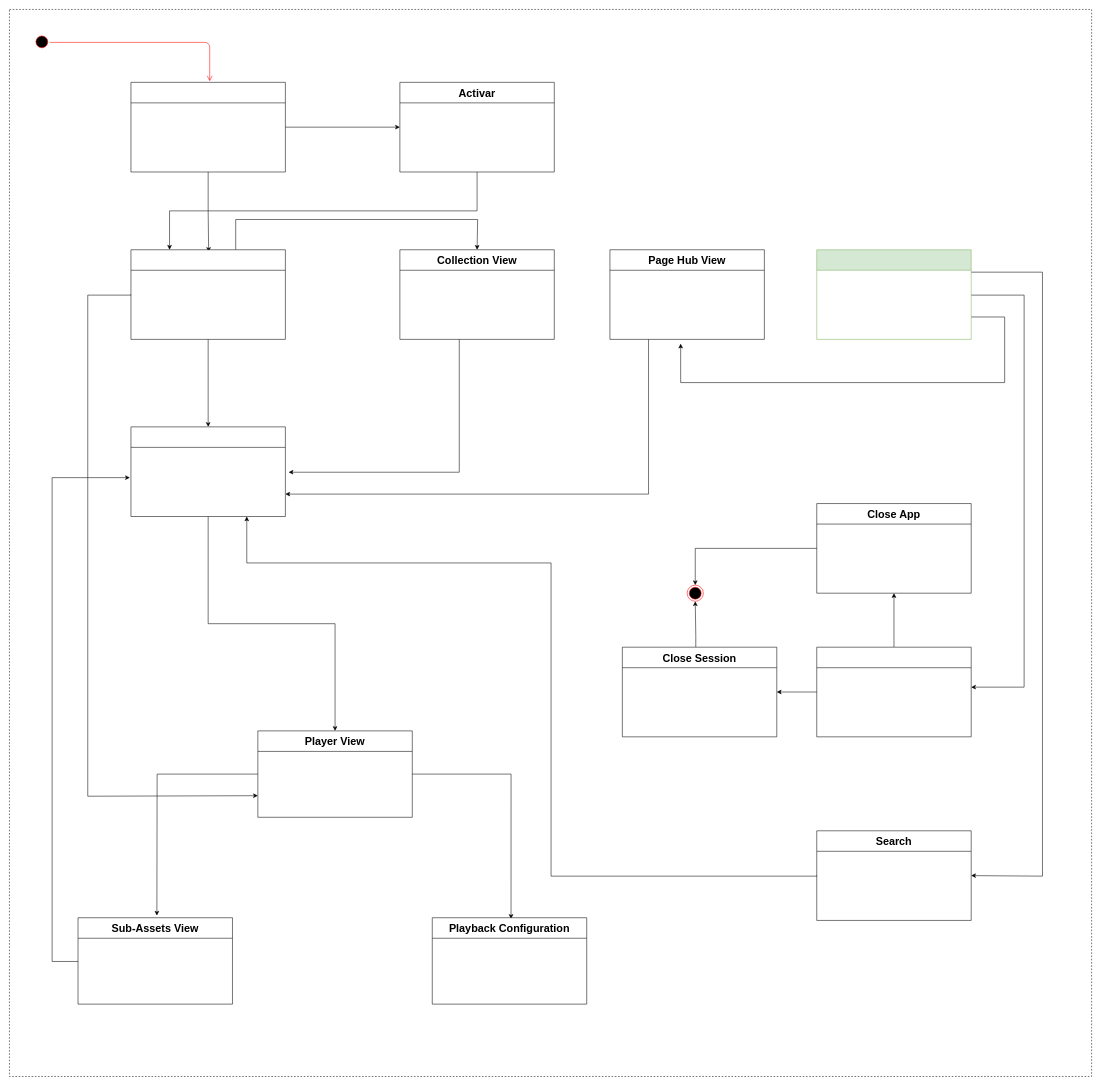
Some shapes in this 1101 by 1086 pixel diagram are drawn without their labels. Here are the shapes that lost their labels. From the top down, the box of each, then its label:
(130, 82, 285, 172): Splash Screen
(130, 249, 285, 339): Inicio
(816, 249, 971, 339): Sidebar
(130, 426, 285, 517): Asset Details
(816, 647, 971, 737): App Configurations
